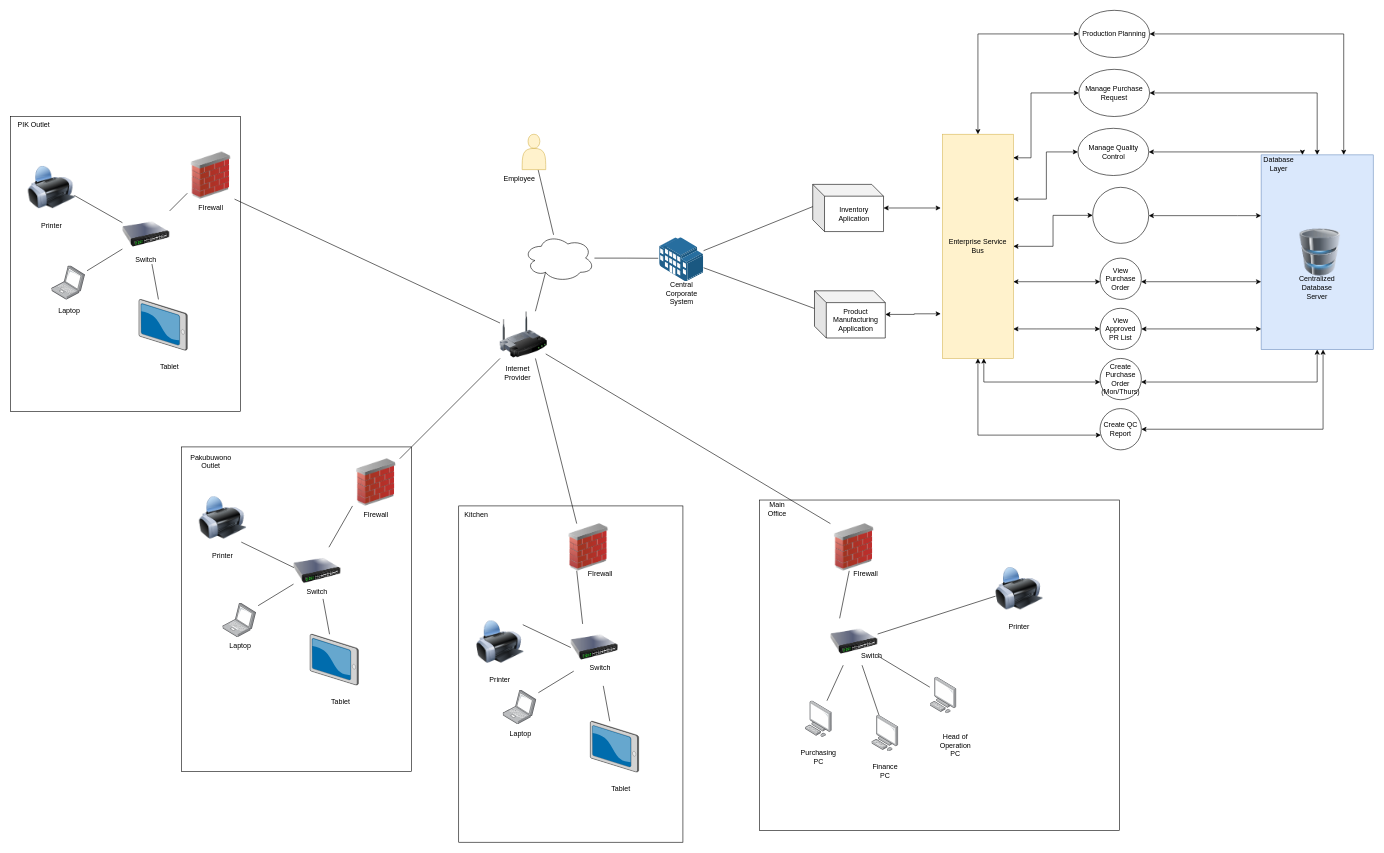
The diagram is 1384 pixels wide and 853 high, and some of its shapes have lost their labels. The box of each missing label's shape, as (x1, y1, x2, y2) in pixels:
Internet: (523, 234, 594, 282)
View Order History: (1092, 187, 1149, 243)
